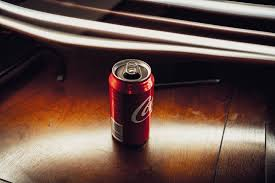can: (105, 57, 161, 150)
